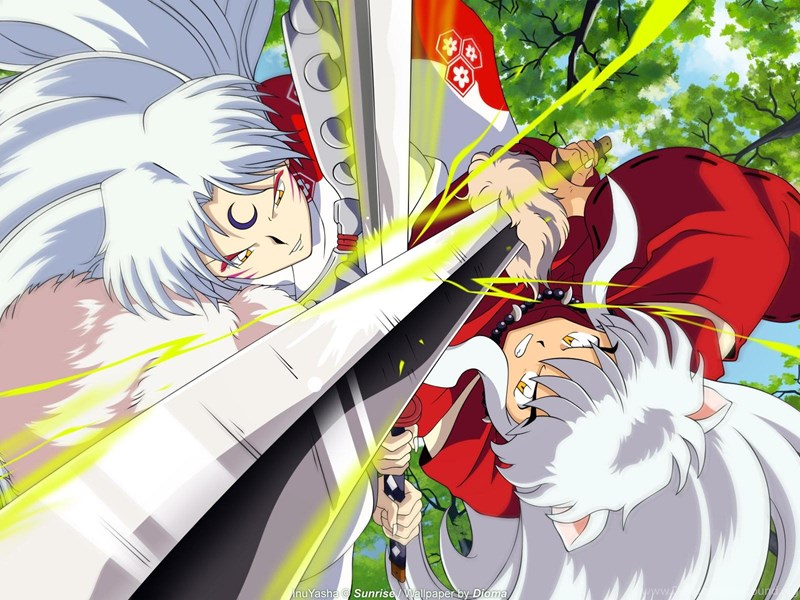sesshomaru: (45, 24, 363, 353)
